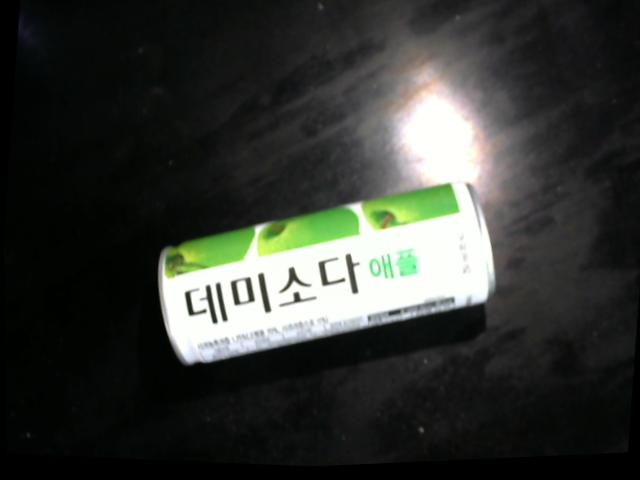can: (155, 183, 496, 370)
